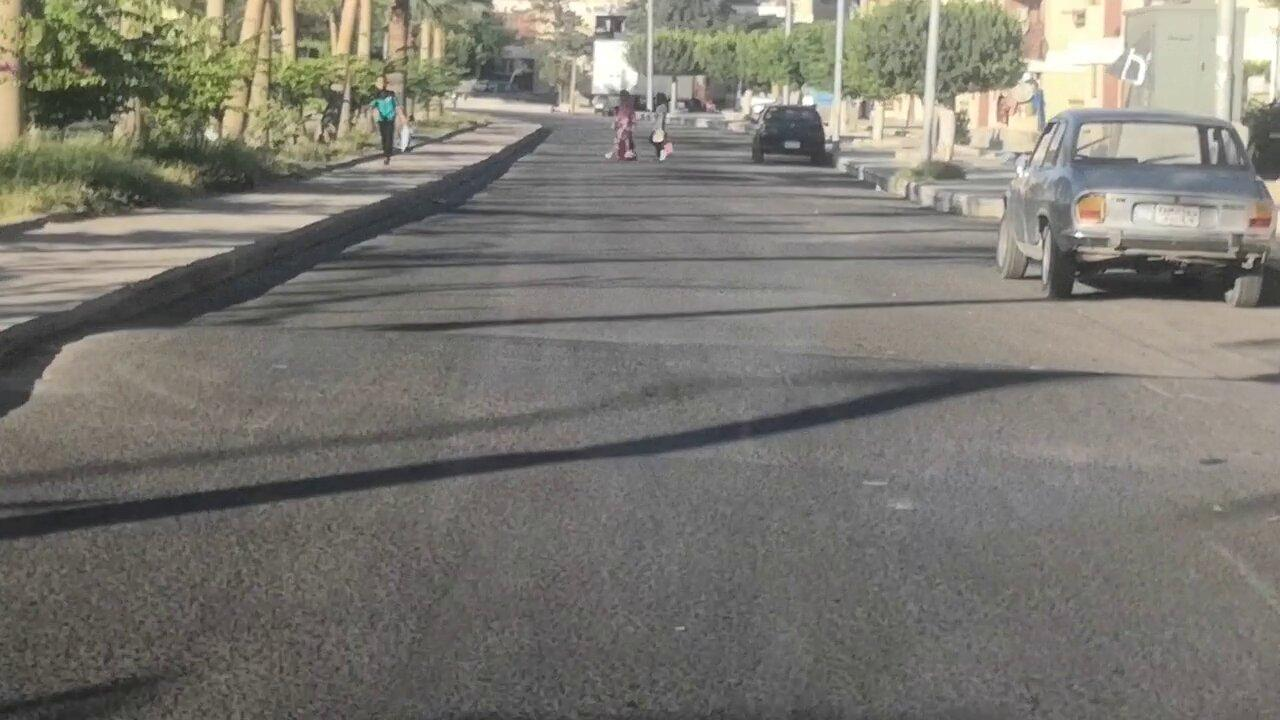Bump: (53, 314, 1280, 446)
